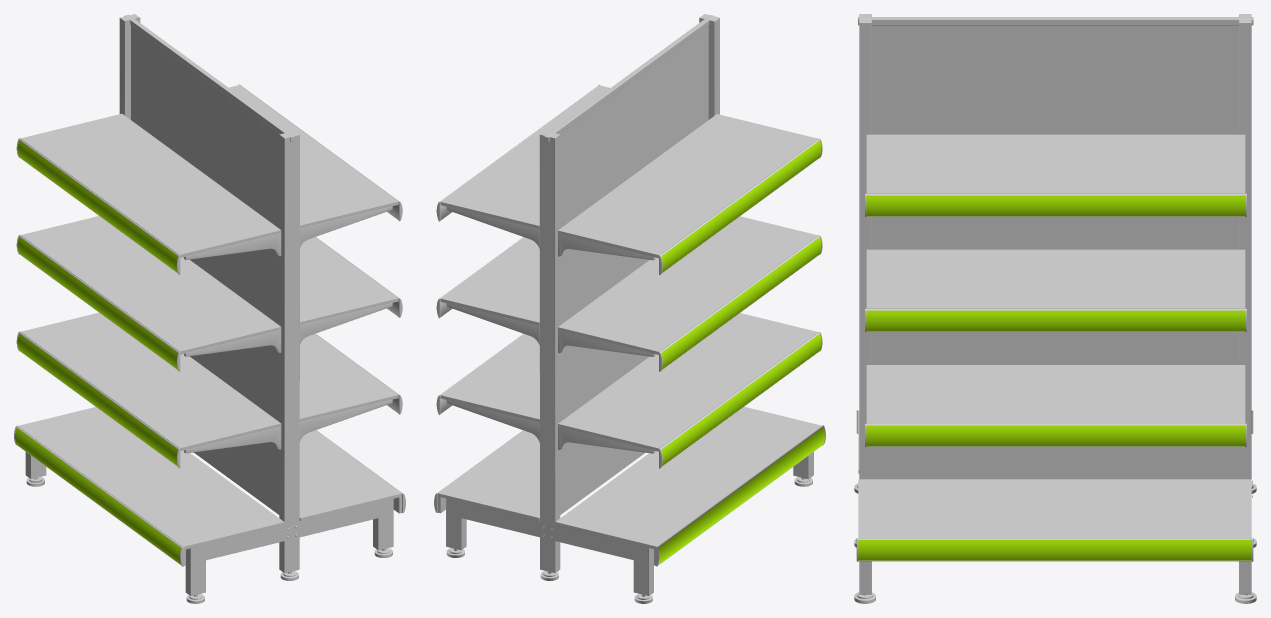
File: EstanteriaParedDoble.glb
The picture shows the model from 3 angles, left to right: view 1: azimuth 30°, elevation 25°; view 2: azimuth 150°, elevation 25°; view 3: azimuth 270°, elevation 25°; orthographic projection. The views are drawn at different scales.
Parts seen in each view (by area): view 1: grocery_shelf_base.001, grocery_shelves003.001, grocery_shelves001.001, grocery_shelves002.001; view 2: grocery_shelf_base.001, grocery_shelves003.001, grocery_shelves001.001, grocery_shelves002.001; view 3: grocery_shelf_base.001, grocery_shelves002.001, grocery_shelves003.001, grocery_shelves001.001.
Boxes of the visible parts, x1,y1,x2,y2 form: grocery_shelf_base.001: [14, 14, 405, 603]; grocery_shelves003.001: [16, 84, 402, 274]; grocery_shelves001.001: [16, 312, 402, 468]; grocery_shelves002.001: [16, 216, 402, 371]; grocery_shelf_base.001: [434, 14, 825, 603]; grocery_shelves003.001: [436, 84, 822, 275]; grocery_shelves001.001: [436, 313, 822, 468]; grocery_shelves002.001: [436, 216, 822, 371]; grocery_shelf_base.001: [854, 14, 1256, 603]; grocery_shelves002.001: [865, 249, 1246, 332]; grocery_shelves003.001: [865, 134, 1246, 217]; grocery_shelves001.001: [865, 365, 1246, 447].
Size of the model in its own units: 0.7326 by 1.37 by 0.9514.
